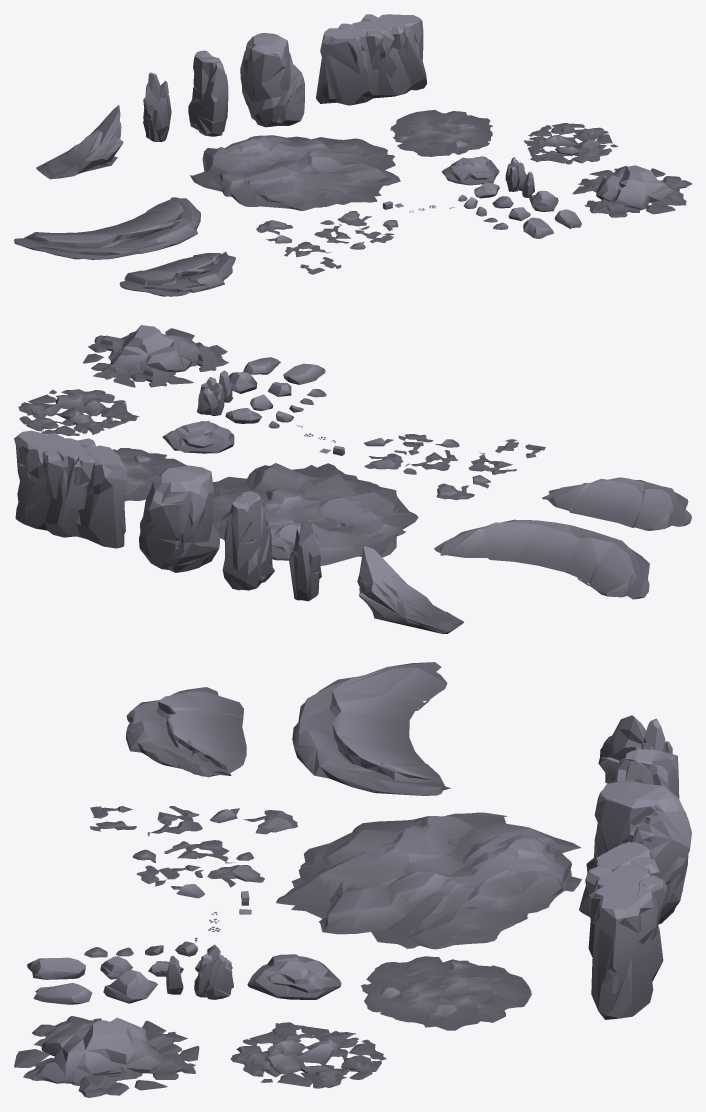
File: LowPolyRocks_Grey.fbx
3 renders of one model, top to bottom at view 1: azimuth 30°, elevation 25°; view 2: azimuth 150°, elevation 25°; view 3: azimuth 270°, elevation 25°, orthographic. The views are drawn at different scales.
Parts seen in each view (by area): view 1: RockFoundation_Grey, Cliff_05_Grey, RockWaveFormation_02_Grey, Cliff_04_Grey, RockFormation_02_Grey, RockFoundation_02_Grey, RockWaveFormation_01_Grey, Cliff_03_Grey, Cliff_01_Grey, RockFormation_03_Grey, Cliff_02_Grey, RockFormation_01_Grey (+4 smaller); view 2: RockFoundation_Grey, Cliff_05_Grey, RockWaveFormation_02_Grey, Cliff_04_Grey, RockFormation_02_Grey, RockWaveFormation_01_Grey, Cliff_01_Grey, Cliff_03_Grey, RockFormation_03_Grey, Cliff_02_Grey, RockFoundation_02_Grey, RockFormation_01_Grey (+6 smaller); view 3: RockFoundation_Grey, RockWaveFormation_02_Grey, Cliff_05_Grey, RockFormation_02_Grey, RockFoundation_02_Grey, RockWaveFormation_01_Grey, Cliff_04_Grey, RockFormation_03_Grey, RockFormation_01_Grey, RockBuried_06_Grey, Cliff_03_Grey, Cliff_01_Grey (+7 smaller).
Part boxes in pixels (bbox=[...]): RockFoundation_Grey: bbox=[190, 135, 400, 210]; Cliff_05_Grey: bbox=[316, 14, 427, 105]; RockWaveFormation_02_Grey: bbox=[14, 197, 200, 259]; Cliff_04_Grey: bbox=[240, 33, 304, 127]; RockFormation_02_Grey: bbox=[572, 165, 691, 217]; RockFoundation_02_Grey: bbox=[390, 110, 492, 156]; RockWaveFormation_01_Grey: bbox=[119, 251, 235, 296]; Cliff_03_Grey: bbox=[188, 50, 228, 136]; Cliff_01_Grey: bbox=[36, 105, 123, 179]; RockFormation_03_Grey: bbox=[524, 123, 617, 164]; Cliff_02_Grey: bbox=[143, 72, 171, 141]; RockFormation_01_Grey: bbox=[441, 156, 499, 185]; RockFoundation_Grey: bbox=[212, 463, 418, 565]; Cliff_05_Grey: bbox=[14, 430, 127, 548]; RockWaveFormation_02_Grey: bbox=[434, 519, 649, 599]; Cliff_04_Grey: bbox=[139, 465, 219, 572]; RockFormation_02_Grey: bbox=[83, 325, 228, 387]; RockWaveFormation_01_Grey: bbox=[542, 477, 691, 530]; Cliff_01_Grey: bbox=[357, 546, 463, 633]; Cliff_03_Grey: bbox=[222, 491, 274, 590]; RockFormation_03_Grey: bbox=[18, 389, 139, 435]; Cliff_02_Grey: bbox=[289, 520, 321, 601]; RockFoundation_02_Grey: bbox=[113, 448, 187, 501]; RockFormation_01_Grey: bbox=[162, 420, 234, 453]; RockFoundation_Grey: bbox=[276, 812, 581, 949]; RockWaveFormation_02_Grey: bbox=[292, 662, 450, 795]; Cliff_05_Grey: bbox=[585, 842, 666, 1019]; RockFormation_02_Grey: bbox=[14, 1016, 199, 1097]; RockFoundation_02_Grey: bbox=[361, 956, 531, 1030]; RockWaveFormation_01_Grey: bbox=[126, 687, 246, 777]; Cliff_04_Grey: bbox=[579, 779, 691, 924]; RockFormation_03_Grey: bbox=[230, 1022, 386, 1088]; RockFormation_01_Grey: bbox=[247, 954, 341, 999]; RockBuried_06_Grey: bbox=[132, 840, 264, 898]; Cliff_03_Grey: bbox=[614, 749, 679, 798]; Cliff_01_Grey: bbox=[598, 715, 646, 783].
Bounding box in the file's own units: 8663 × 1135 × 5703.
